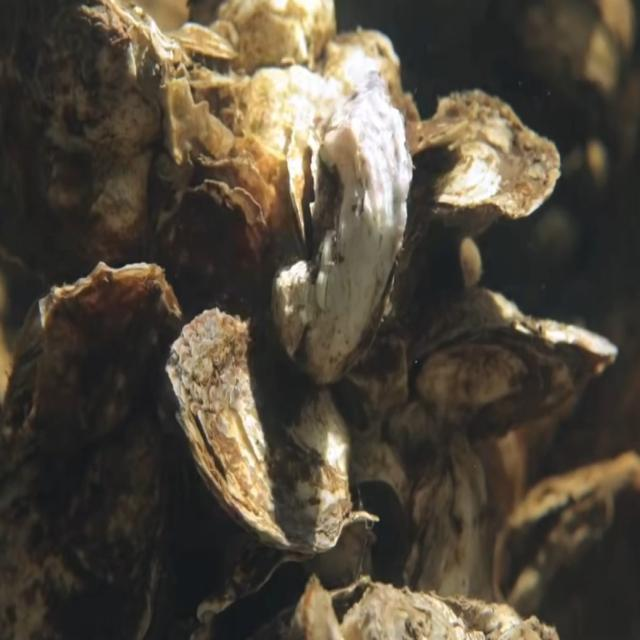Oyster-Closed: (0, 260, 182, 640), (162, 307, 354, 556), (269, 70, 413, 386), (407, 286, 640, 444), (397, 88, 561, 276), (401, 429, 496, 640)
Oyster-Indeterminate: (0, 0, 216, 351), (149, 178, 272, 330)
Oyster-Open: (490, 453, 640, 640), (196, 510, 379, 640)
